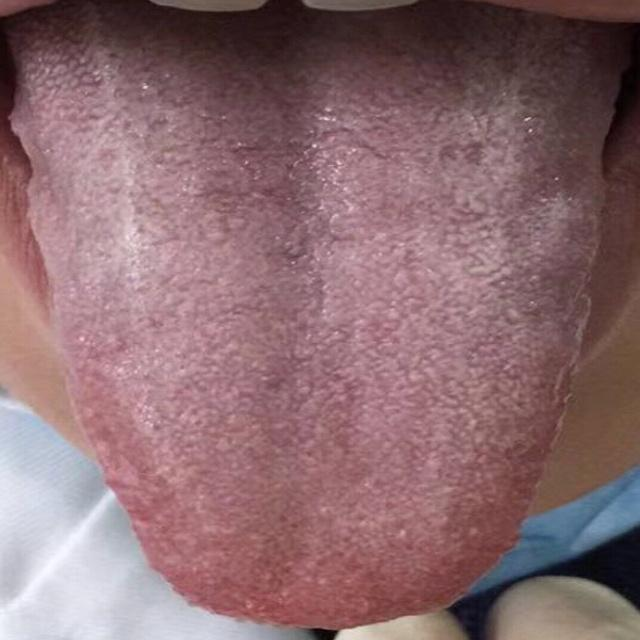baitaishe: (8, 12, 626, 630)
zishe: (8, 12, 626, 630)
